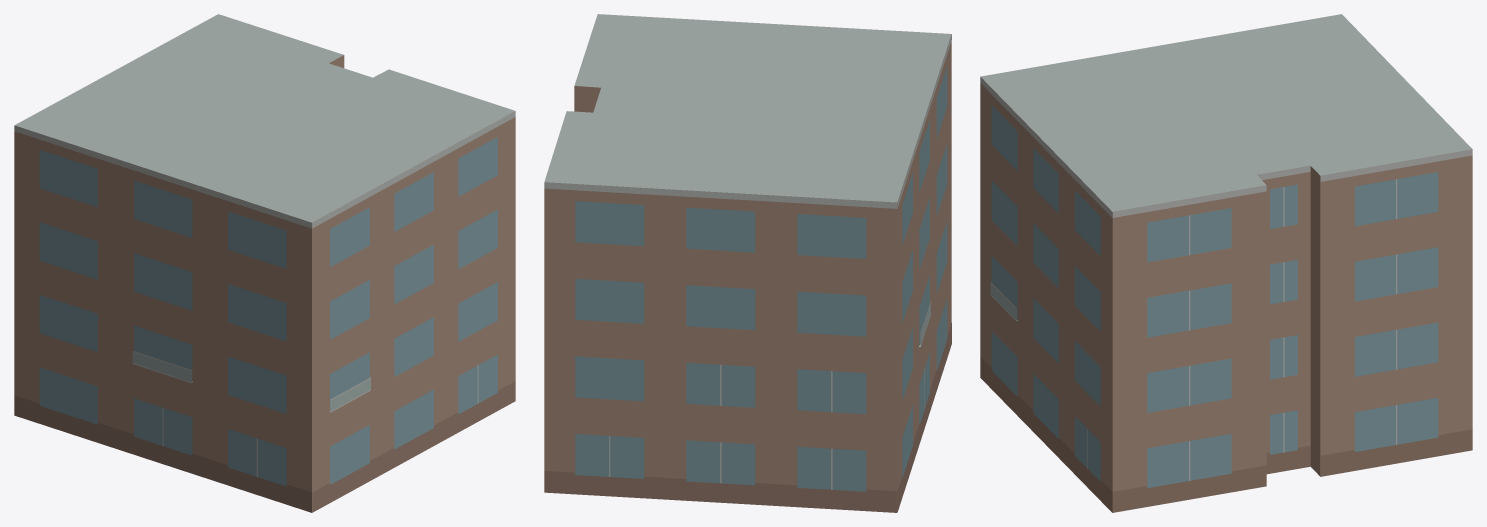
File: survey-upis-32685013.glb
3 views of the same model, side by side, from view 1: azimuth 30°, elevation 25°; view 2: azimuth 150°, elevation 25°; view 3: azimuth 270°, elevation 25° (orthographic). The views are drawn at different scales.
Visible parts, largest first — view 1: survey-upis-32685013.tmp; view 2: survey-upis-32685013.tmp; view 3: survey-upis-32685013.tmp.
Boxes of the visible parts, x1,y1,x2,y2 form: survey-upis-32685013.tmp: [14, 14, 515, 512]; survey-upis-32685013.tmp: [544, 14, 951, 512]; survey-upis-32685013.tmp: [980, 14, 1472, 512].
Size of the model in its own units: 16.78 by 11.9 by 17.65.
